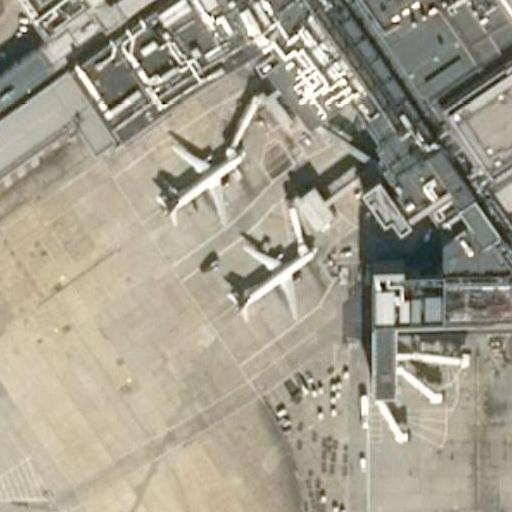Aircraft: (218, 232, 320, 326), (150, 133, 249, 222)
